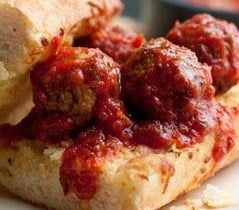sandwich: (1, 12, 239, 207)
